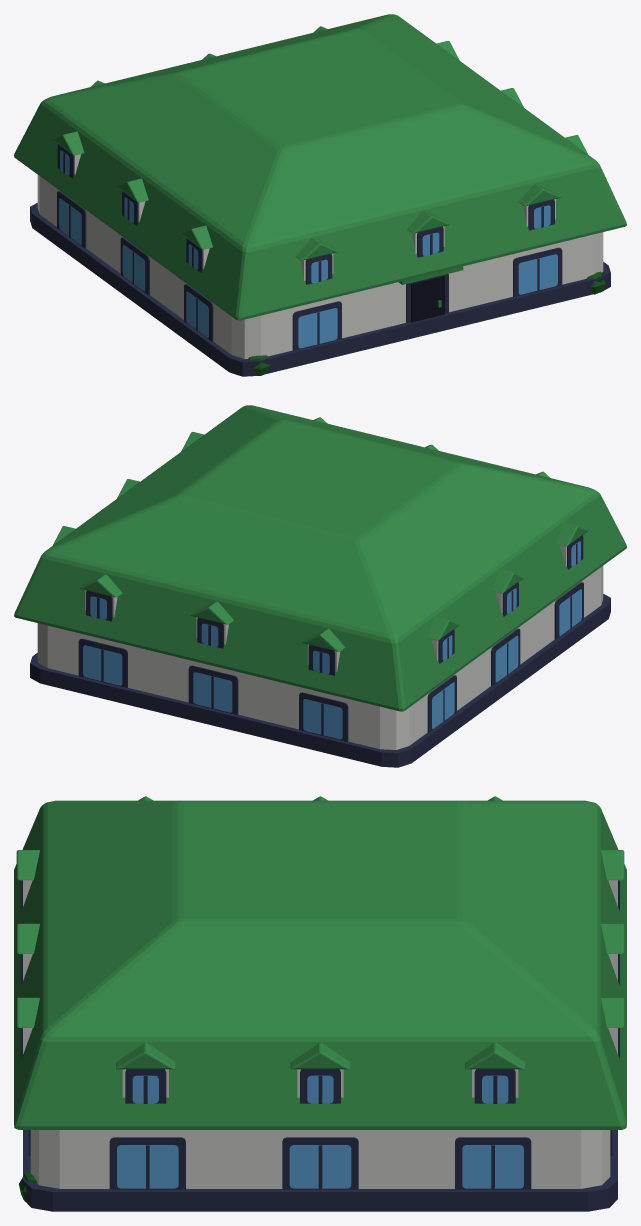
Rendered from house-2x2-1f-mansard-a.glb.
3 views of the same model, one above another, from view 1: azimuth 30°, elevation 25°; view 2: azimuth 150°, elevation 25°; view 3: azimuth 270°, elevation 25° (orthographic). The views are drawn at different scales.
Visible parts, largest first — view 1: house-2x2-1f-mansard-a; view 2: house-2x2-1f-mansard-a; view 3: house-2x2-1f-mansard-a.
Boxes of the visible parts, x1,y1,x2,y2 form: house-2x2-1f-mansard-a: [14, 14, 626, 376]; house-2x2-1f-mansard-a: [14, 405, 626, 767]; house-2x2-1f-mansard-a: [14, 796, 626, 1211].
Size of the model in its own units: 1.99 by 0.8052 by 1.99.
1 material, 1 textured.
